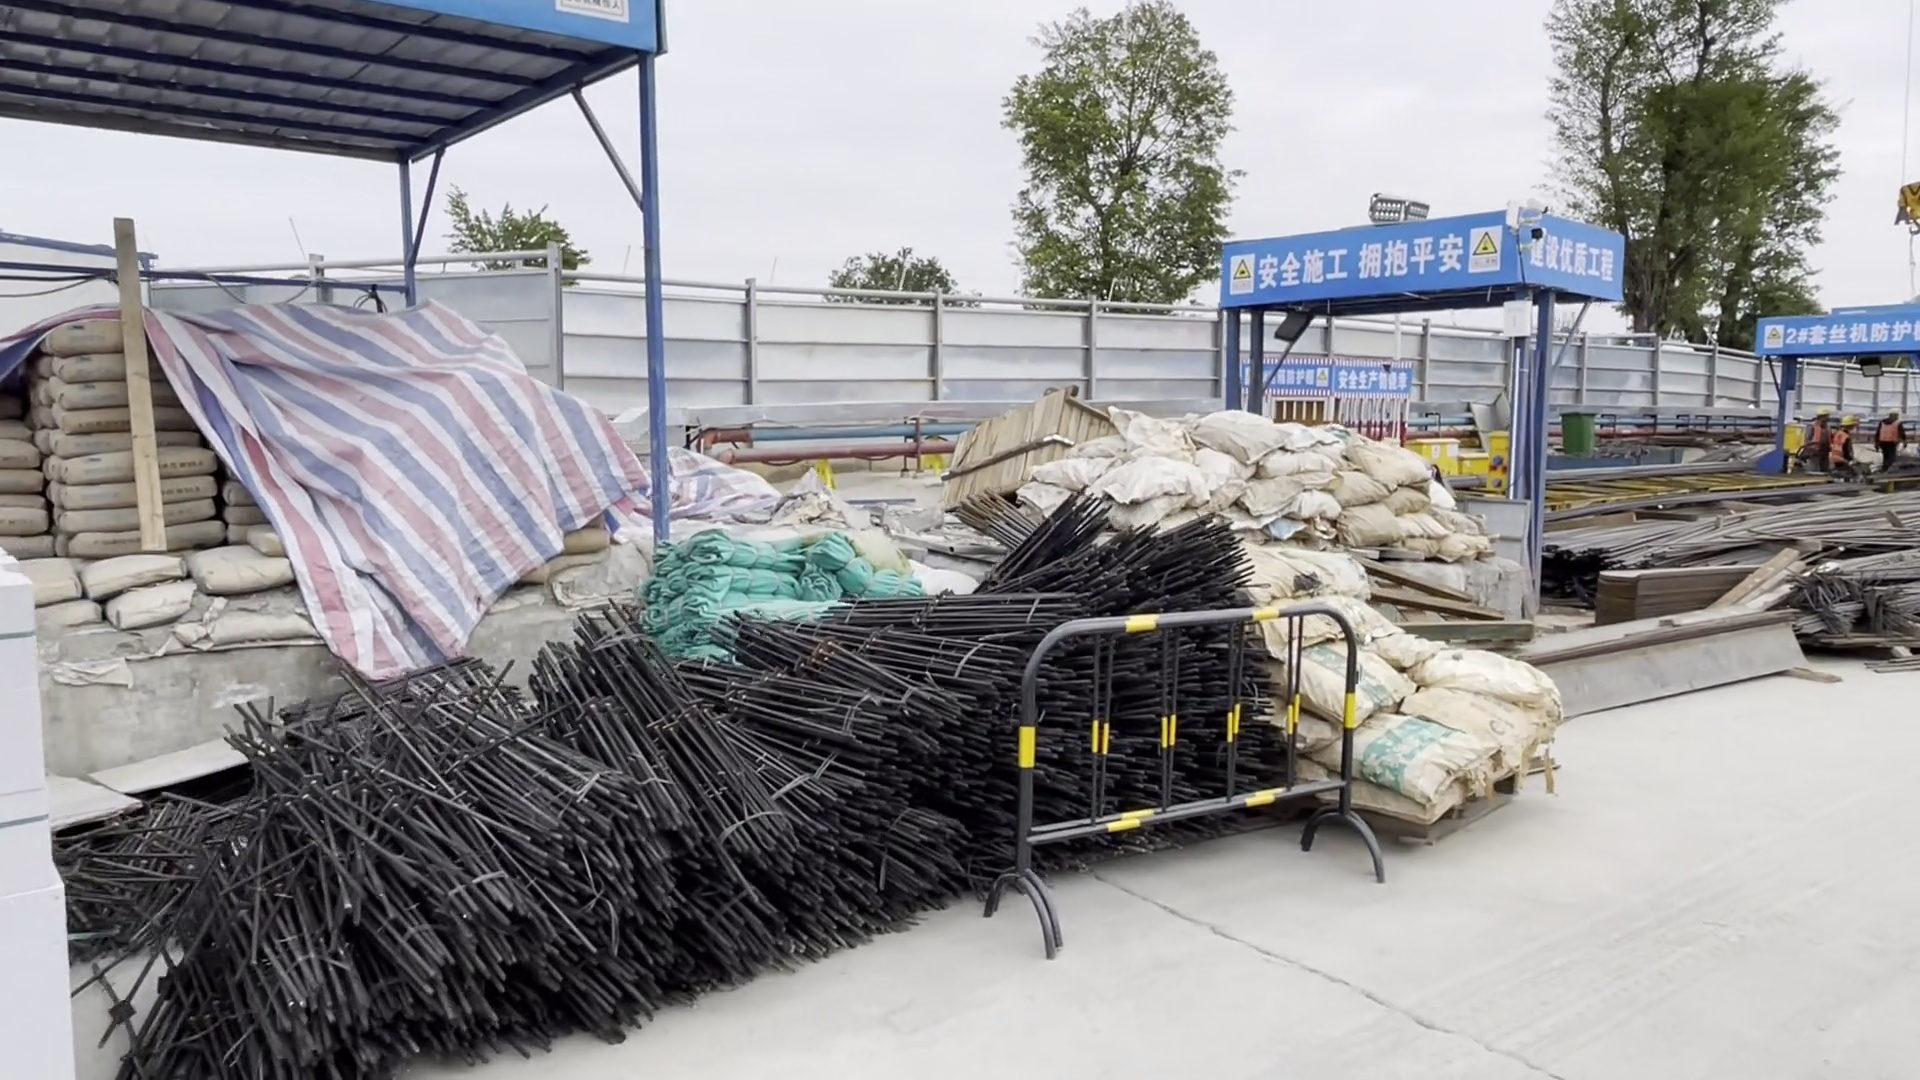fence: (534, 273, 1205, 392), (1445, 329, 1782, 415)
helmet: (1840, 413, 1863, 425), (1813, 405, 1829, 416), (1887, 405, 1899, 416)
hook: (1895, 176, 1920, 240)
person: (1828, 411, 1865, 482), (1869, 407, 1906, 470), (1799, 407, 1833, 463)
rebar: (1533, 493, 1920, 640)
slogan: (1233, 228, 1523, 285), (1517, 221, 1635, 287), (1766, 316, 1920, 350), (1334, 357, 1418, 401), (1253, 364, 1339, 397)
vest: (1803, 420, 1825, 455), (1877, 422, 1900, 451), (1831, 432, 1853, 464)
